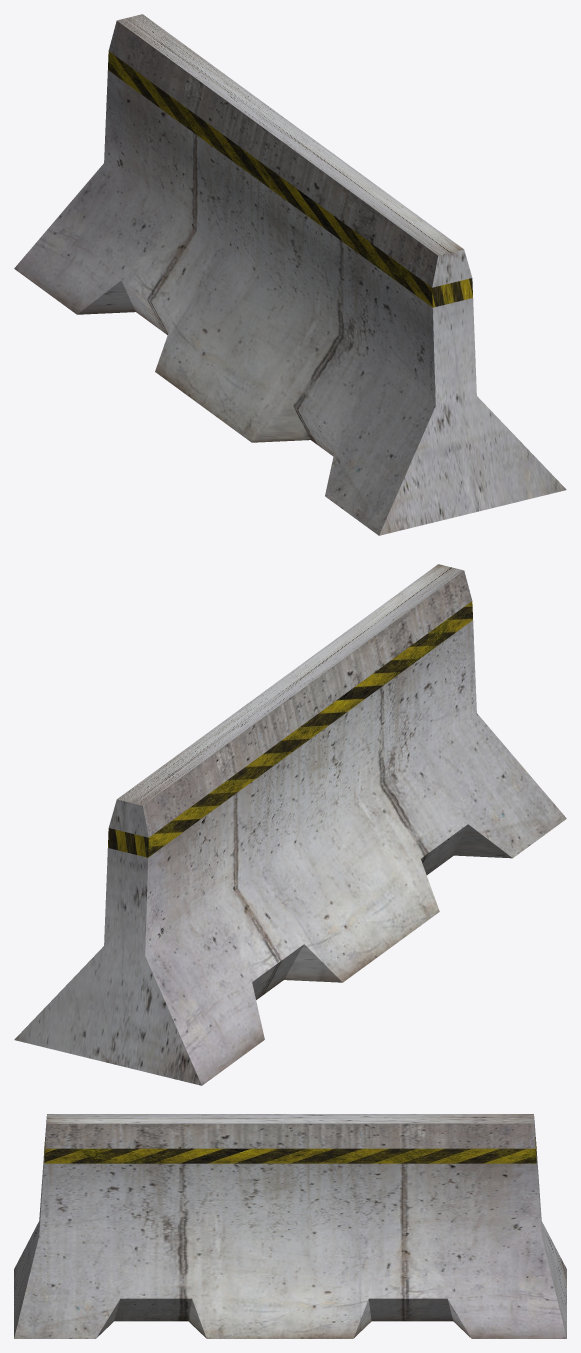
File: Wall.fbx
3 renders of one model, top to bottom at view 1: azimuth 30°, elevation 25°; view 2: azimuth 150°, elevation 25°; view 3: azimuth 270°, elevation 25°, orthographic. The views are drawn at different scales.
Visible parts, largest first — view 1: pCube14; view 2: pCube14; view 3: pCube14.
Part boxes in pixels (left/top/right/bottom): pCube14: left=14, top=14, right=566, bottom=535; pCube14: left=14, top=564, right=566, bottom=1085; pCube14: left=14, top=1114, right=566, bottom=1338.
Bounding box in the file's own units: 0.2973 × 0.3694 × 1.
Materials: 2 (2 with a texture image).
